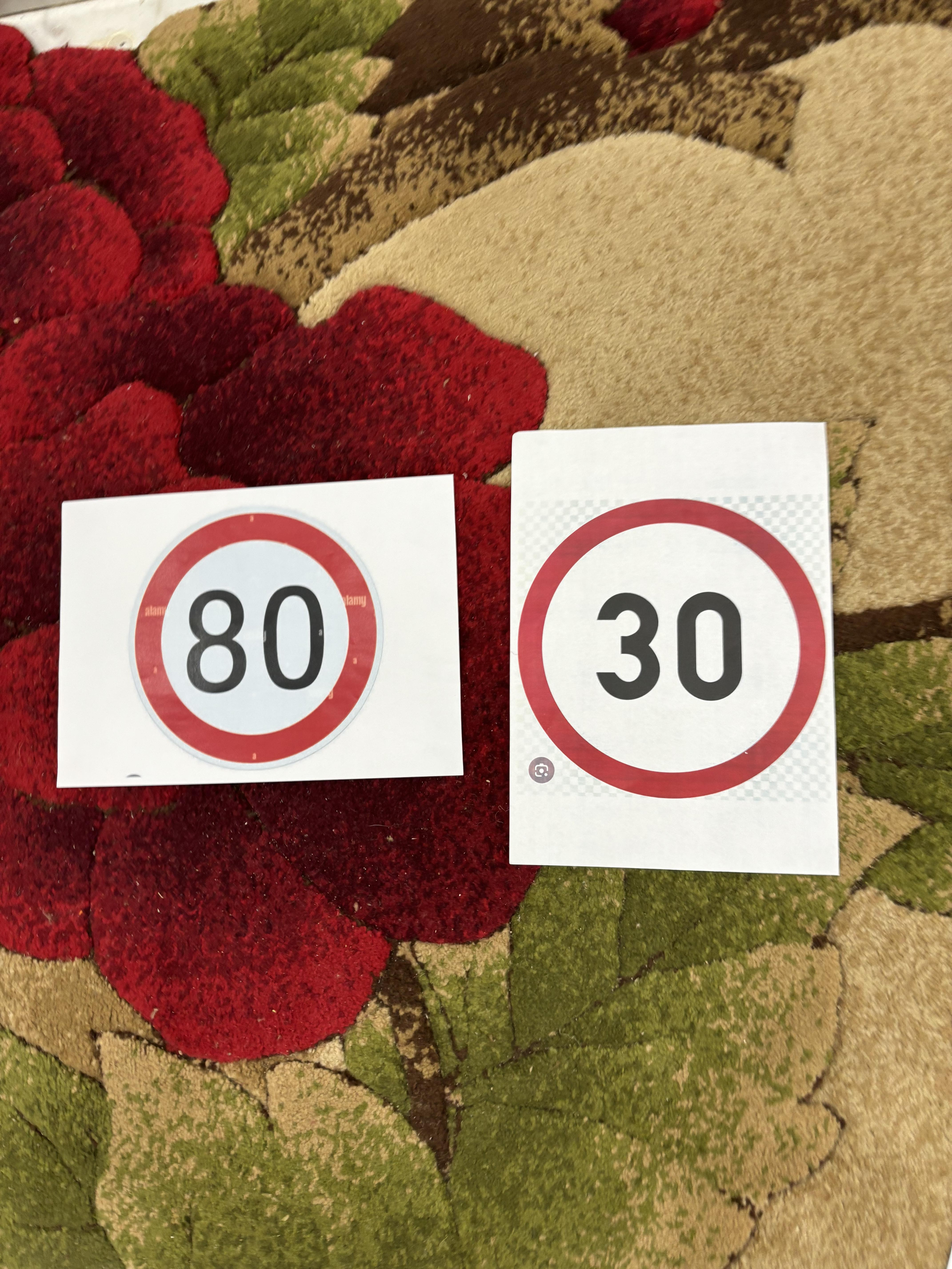30-speed: (514, 491, 827, 803)
80-Speed: (131, 507, 385, 767)
